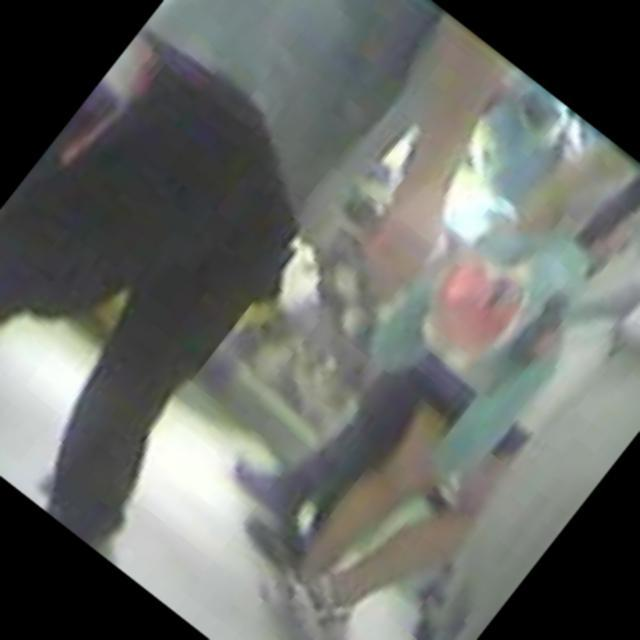person: (0, 0, 558, 602), (222, 124, 640, 640)
